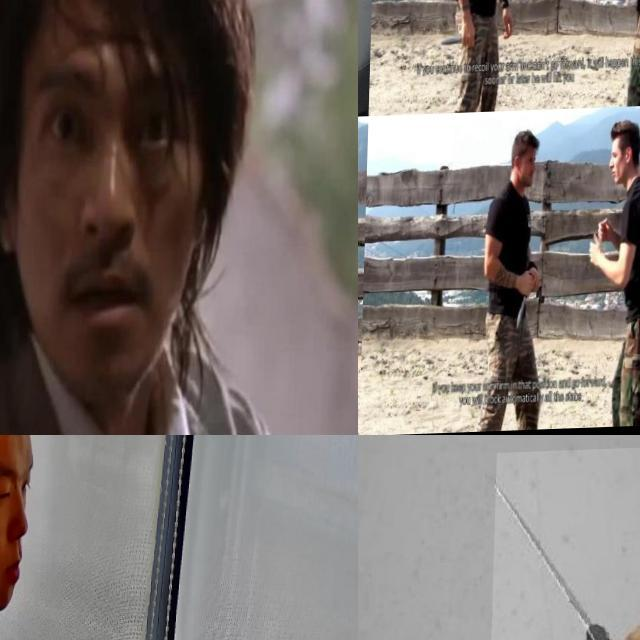-: (489, 449, 640, 640), (358, 0, 417, 27), (516, 276, 536, 336), (438, 34, 477, 56), (358, 269, 368, 332)
